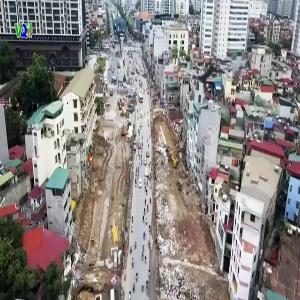drone: (174, 38, 248, 112)
